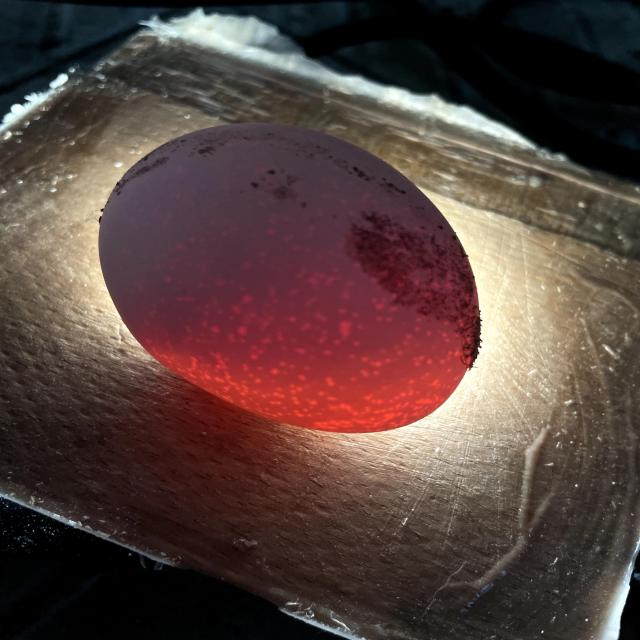fertile: (98, 124, 480, 432)
